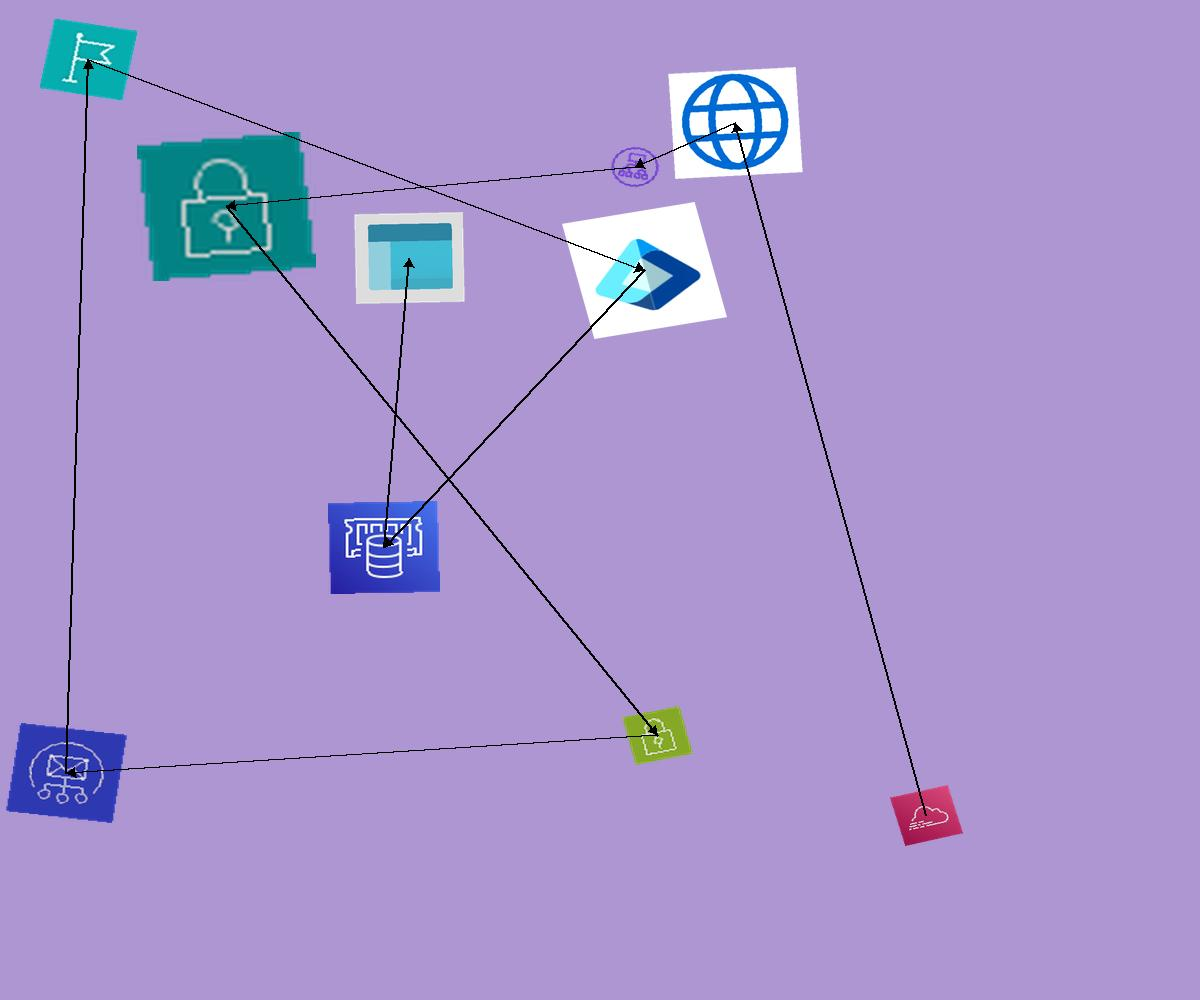AWS-CloudTrail: (890, 785, 963, 846)
AWS-ElastiCache: (328, 501, 440, 594)
AWS-Private-subnet: (137, 132, 316, 281)
AWS-Public-subnet: (621, 705, 694, 766)
AWS-Region: (39, 18, 138, 101)
AWS-Res_Elastic-Load-Balancing_Application-Load-Balancer: (604, 141, 666, 193)
AWS-Simple-Email-Service: (5, 722, 128, 824)
Azure_http: (668, 67, 803, 179)
Azure_management-portal: (354, 212, 465, 304)
Azure_microsoft_entra: (562, 202, 727, 339)
